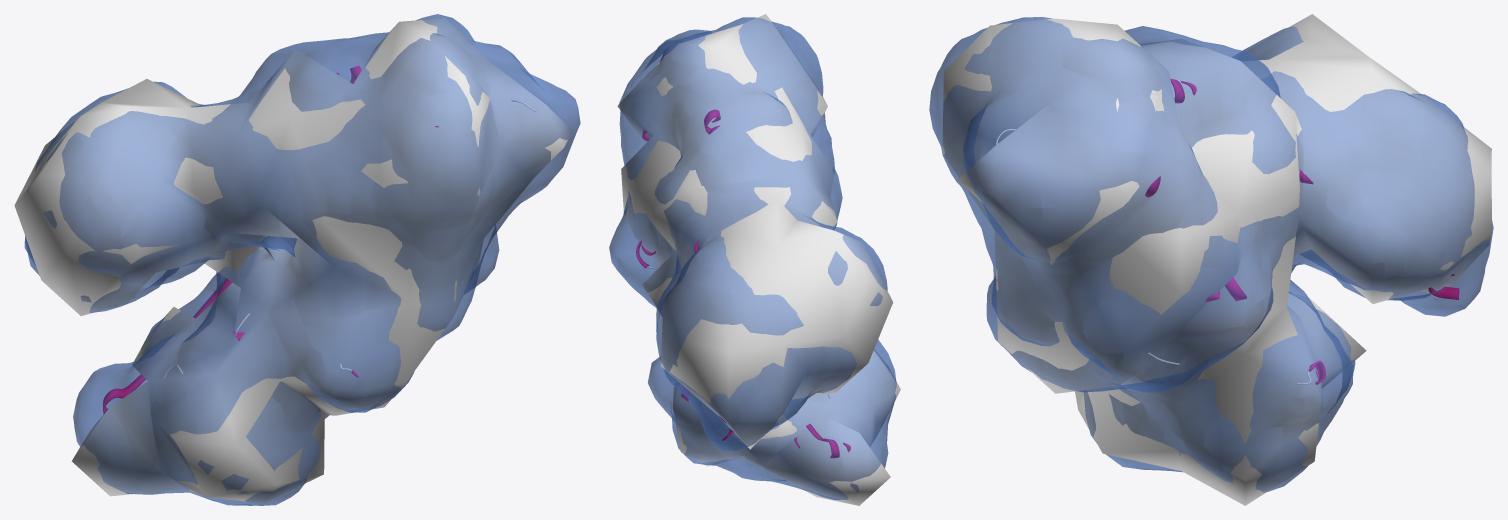
File: CRFTCOARSEAA.fbx
3 renders of one model, left to right at view 1: azimuth 30°, elevation 25°; view 2: azimuth 150°, elevation 25°; view 3: azimuth 270°, elevation 25°, orthographic. The views are drawn at different scales.
Visible parts, largest first — view 1: 5UAKmc, CoarseMS_5uak_3, 5uak_1_A_Helix26; view 2: 5UAKmc, CoarseMS_5uak_3; view 3: 5UAKmc, CoarseMS_5uak_3.
Boxes of the visible parts, left/top/right/bottom form: 5UAKmc: left=14, top=18, right=572, bottom=503; CoarseMS_5uak_3: left=24, top=14, right=580, bottom=505; 5uak_1_A_Helix26: left=103, top=278, right=231, bottom=414; 5UAKmc: left=617, top=14, right=900, bottom=505; CoarseMS_5uak_3: left=609, top=17, right=896, bottom=499; 5UAKmc: left=942, top=14, right=1491, bottom=505; CoarseMS_5uak_3: left=929, top=17, right=1493, bottom=492.
Bounding box in the file's own units: 103 × 116 × 113.
